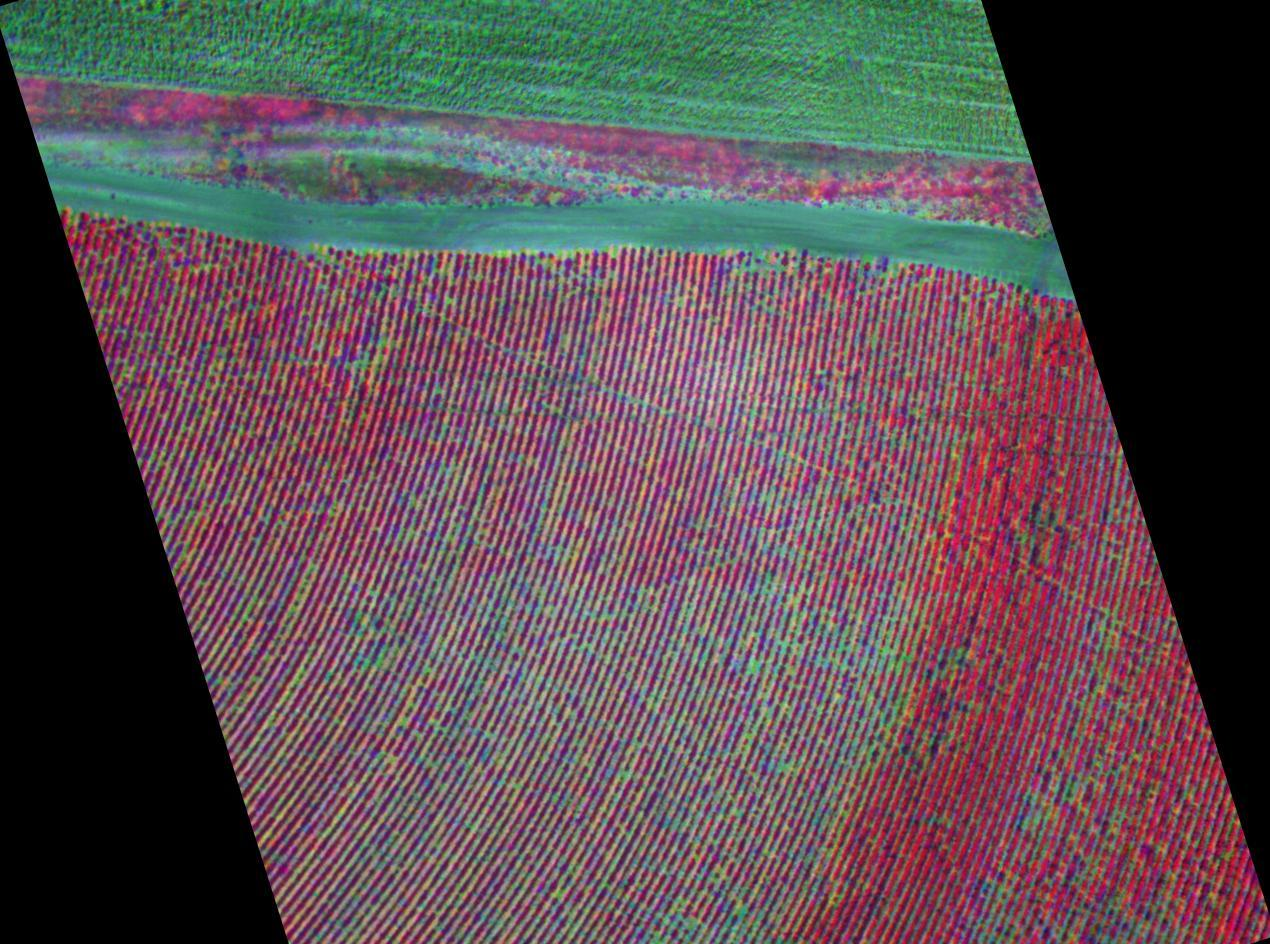dc: (780, 764, 786, 770), (379, 341, 384, 346), (436, 388, 441, 393), (557, 891, 562, 895)
